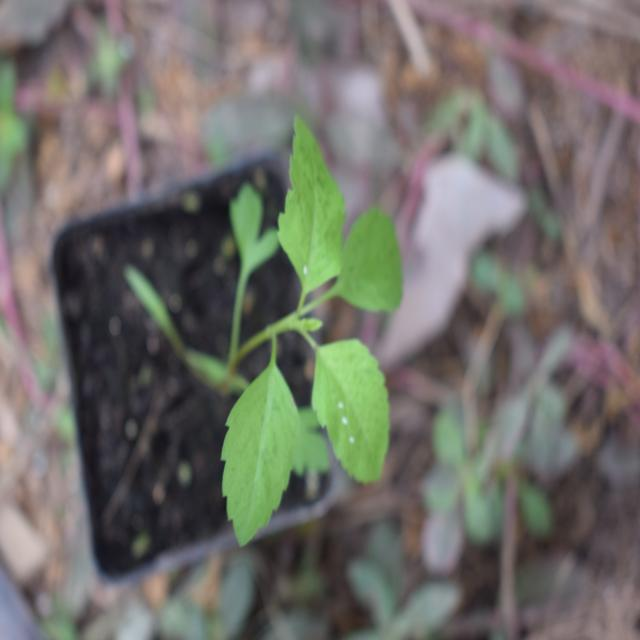Bidens pilosa: (202, 120, 413, 542)
